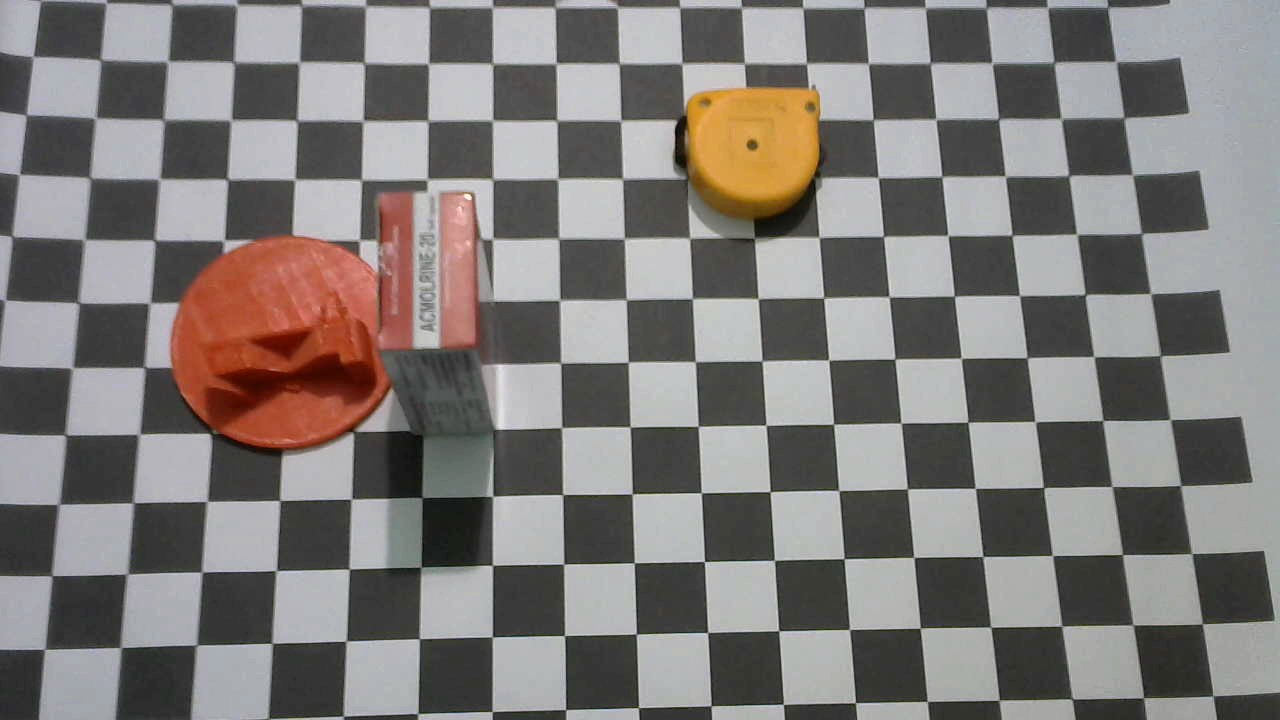blue: (675, 87, 823, 220)
green: (170, 237, 393, 454)
red: (375, 188, 496, 431)
